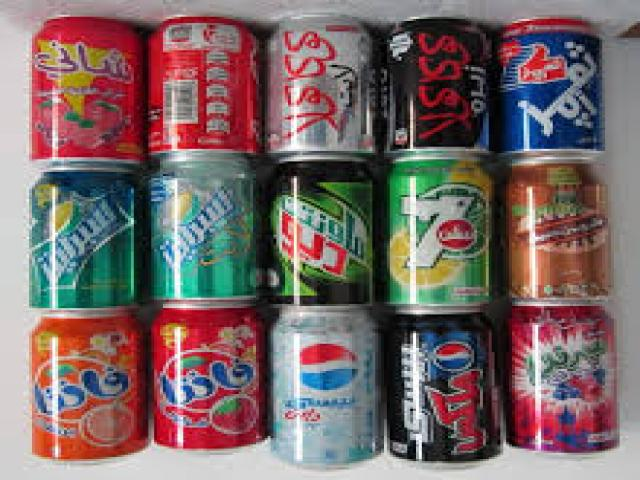Canned_drinks: (381, 313, 500, 464), (259, 11, 381, 157), (29, 12, 140, 172), (265, 306, 378, 463), (29, 308, 148, 457), (378, 155, 492, 310), (140, 11, 256, 162), (503, 302, 617, 453), (142, 157, 259, 300), (151, 302, 262, 446), (265, 161, 378, 302), (26, 168, 140, 304), (500, 157, 608, 300), (381, 15, 489, 153), (498, 15, 602, 153)
